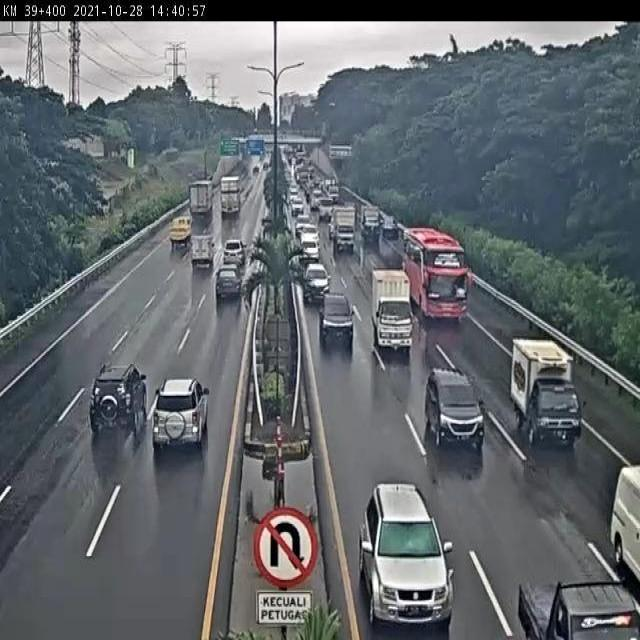bus-l-: (402, 227, 470, 321)
car: (359, 482, 455, 630), (426, 367, 485, 449), (151, 379, 210, 452), (90, 363, 148, 432), (317, 290, 355, 346), (302, 260, 330, 305), (214, 263, 243, 301)
truck-m-: (370, 268, 414, 349)
truck-s-: (511, 333, 583, 447)
